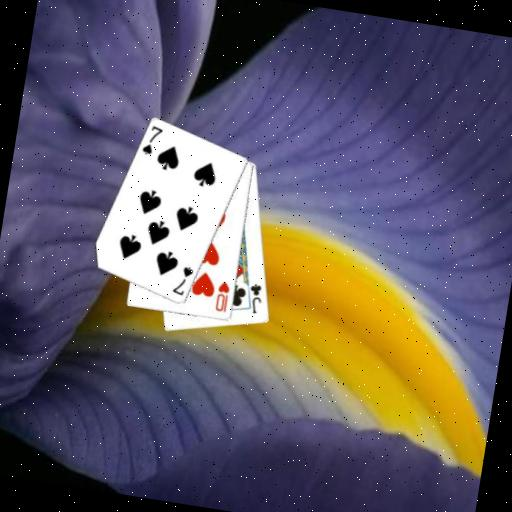10H: (212, 277, 233, 313)
7S: (169, 261, 196, 298), (138, 121, 165, 158)
JC: (243, 279, 266, 315)
